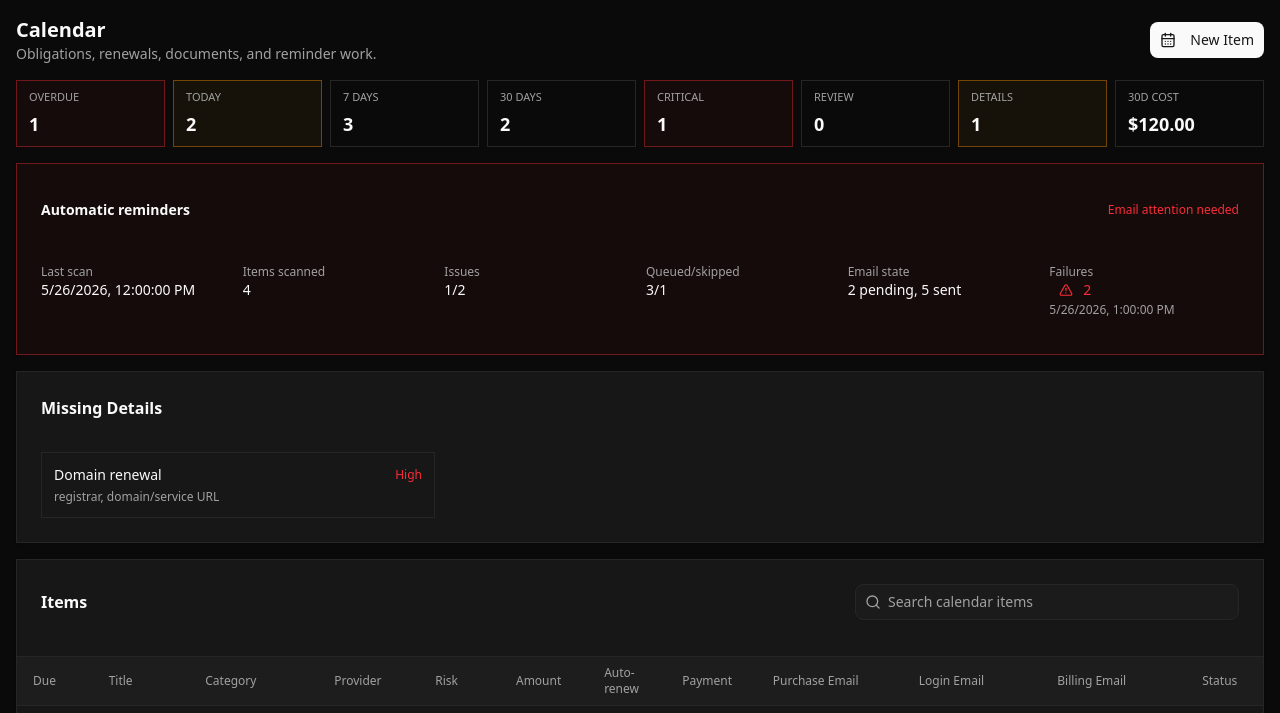
Test: Calendar › surfaces reminder email failures
Click the button "2": (1075, 290) [1049,280,1101,300]
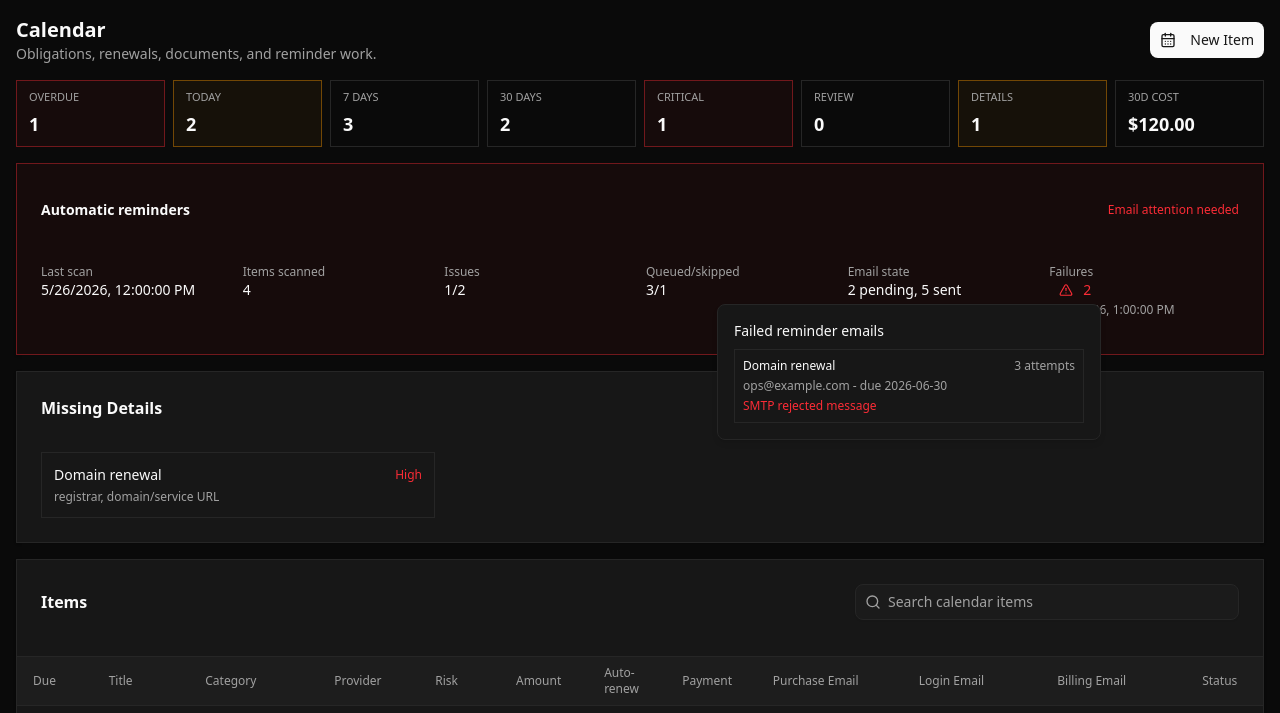
Now the text "Failed reminder emails" is shown, box [734,321,884,340]
Now the text "SMTP rejected message" is shown, box [743,397,877,414]
